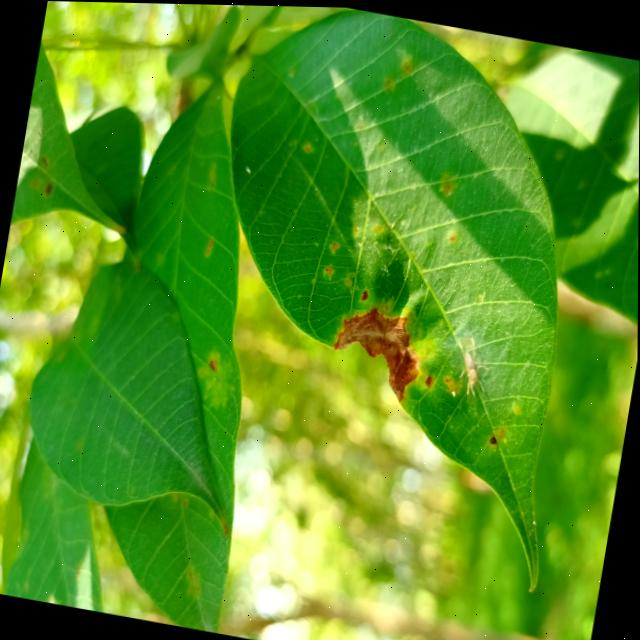Colletotrichum: (489, 434, 497, 443)
Leaf-Blight: (326, 298, 428, 403)
